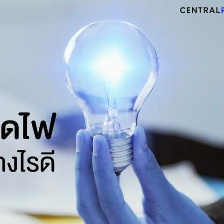light_bulb: (60, 14, 160, 182)
